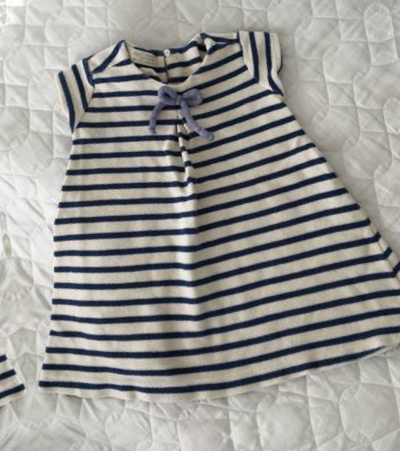Dress: (0, 0, 400, 447), (0, 49, 32, 451), (371, 0, 400, 379), (59, 420, 400, 451)
